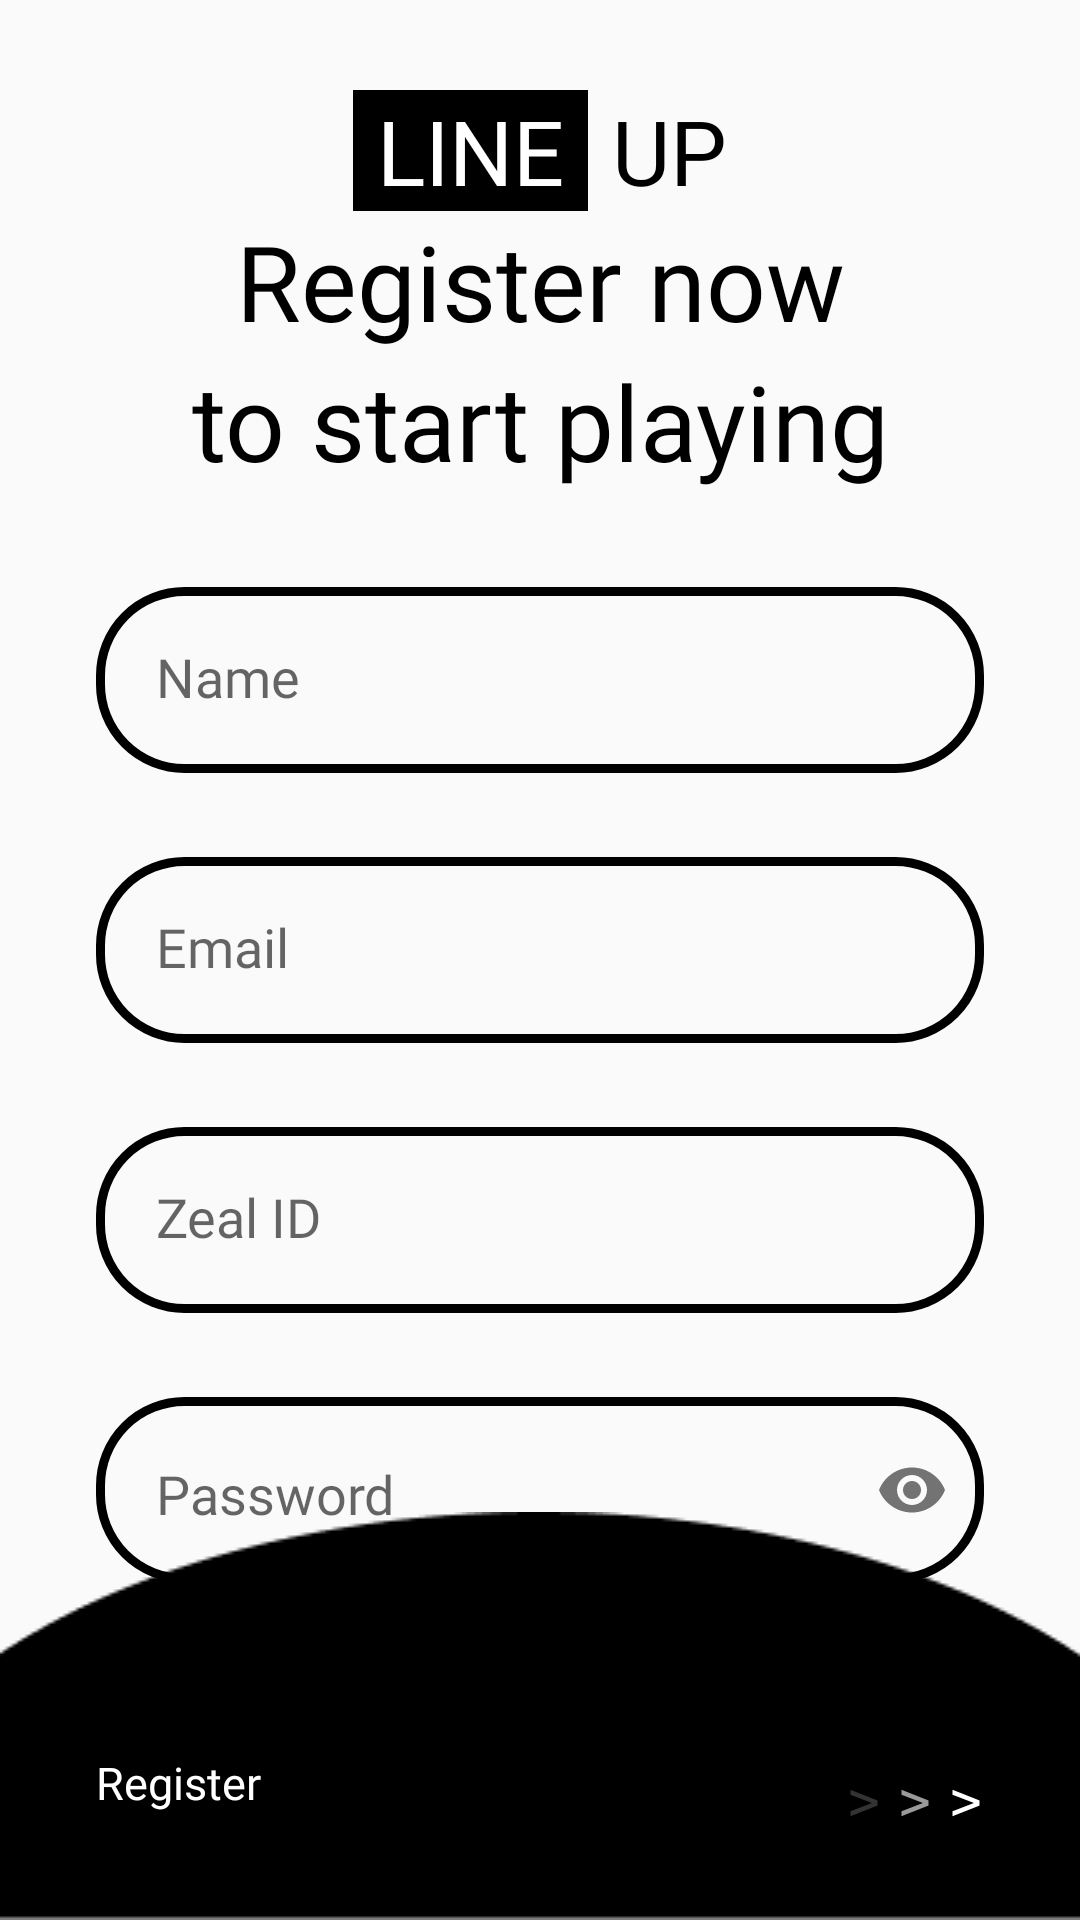

Where icons sit on this 1080 x 1920 app screen, as detection(x1, y1, x2, y2):
next arrow: detection(850, 1790, 980, 1816)
